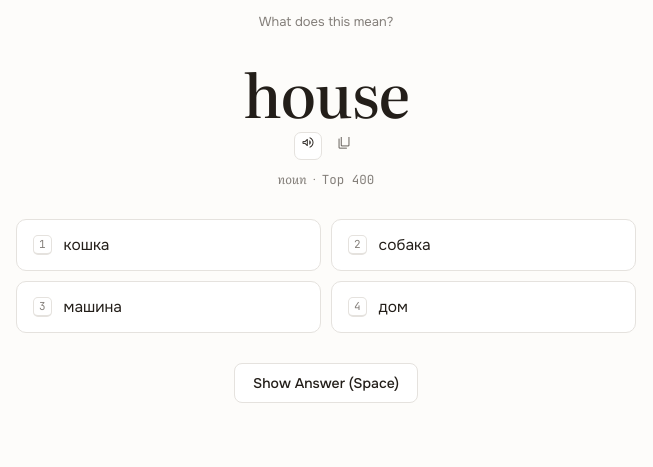
FlashcardMode › reveals the grading buttons after choosing an option
Expected: the button "Good" is not shown
Click the button "1 кошка": (87,245) [16,219,321,271]
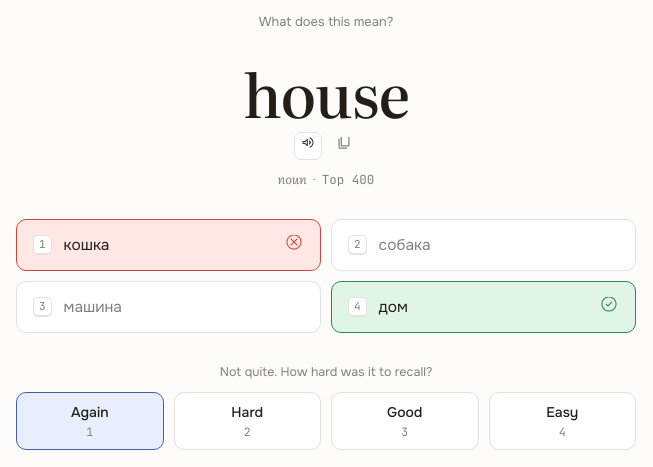
Now the button "Good 3" is shown, box [331,392,478,450]
